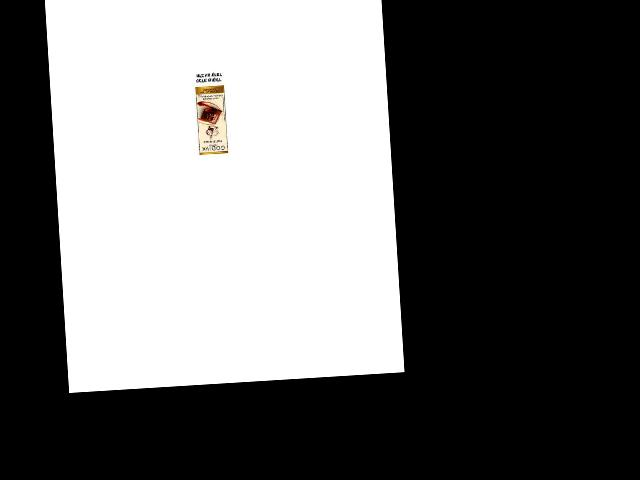chocolate: (192, 82, 227, 156)
